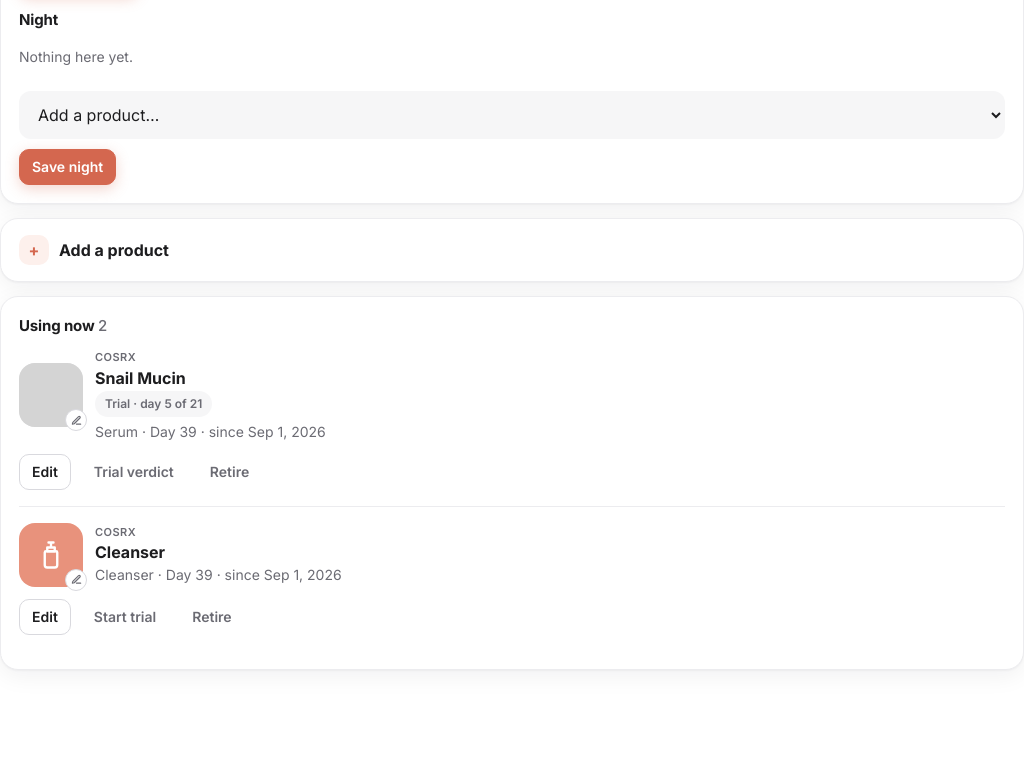
Scenario: ProductsScreen trials › warns before starting a second trial, then shows the overlap
(page scrolled)
Check: the text "Trial · day 5 of 21" is shown, box [95, 390, 212, 416]
Click the button with aria-label "Start a trial of Cleanser": (125, 616) [81, 598, 169, 634]
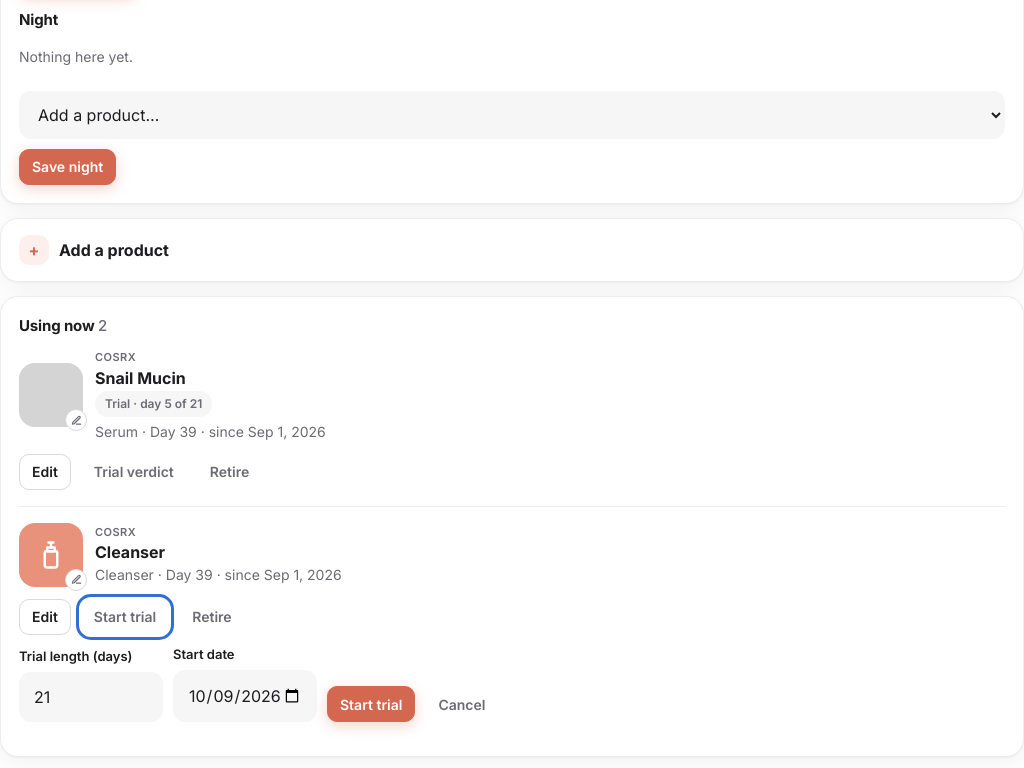
Click the button "Start trial" below "Trial length (days)": (371, 704) [327, 686, 415, 722]
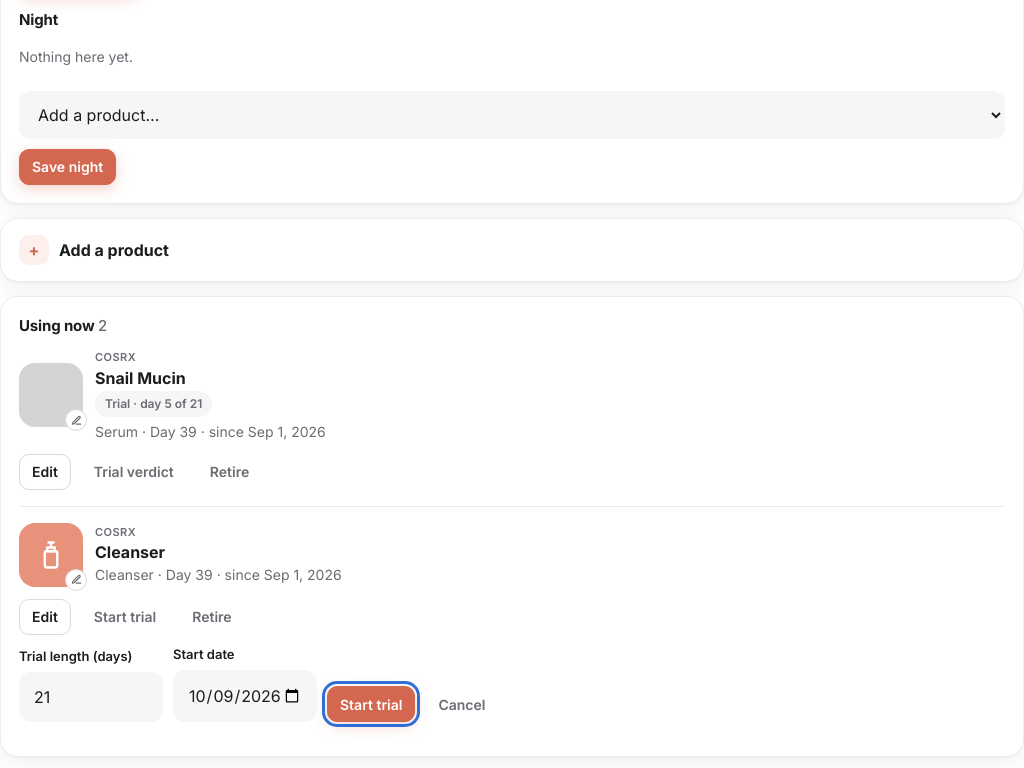
Click the button "Start trial" below "Trial length (days)": (371, 704) [327, 686, 415, 722]
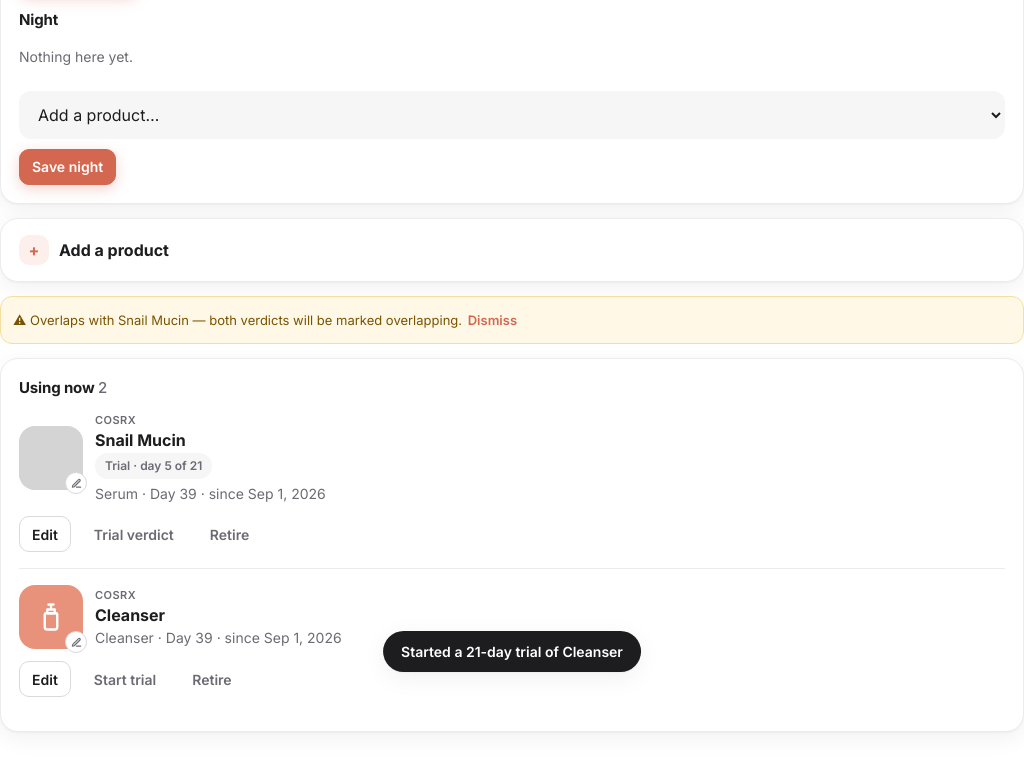
Check: the message named "Trial warning" shows "Overlaps with Snail Mucin", box [30, 312, 462, 328]
